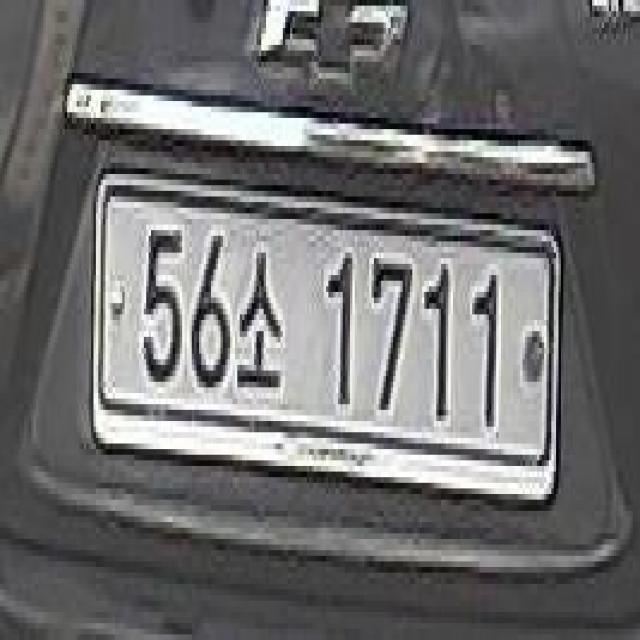1: (463, 252, 508, 442), (321, 236, 358, 418), (422, 248, 456, 428)
5: (139, 209, 184, 387)
6: (186, 211, 231, 400)
7: (364, 244, 416, 421)
license_plate: (80, 159, 568, 518)
so: (236, 221, 286, 408)
